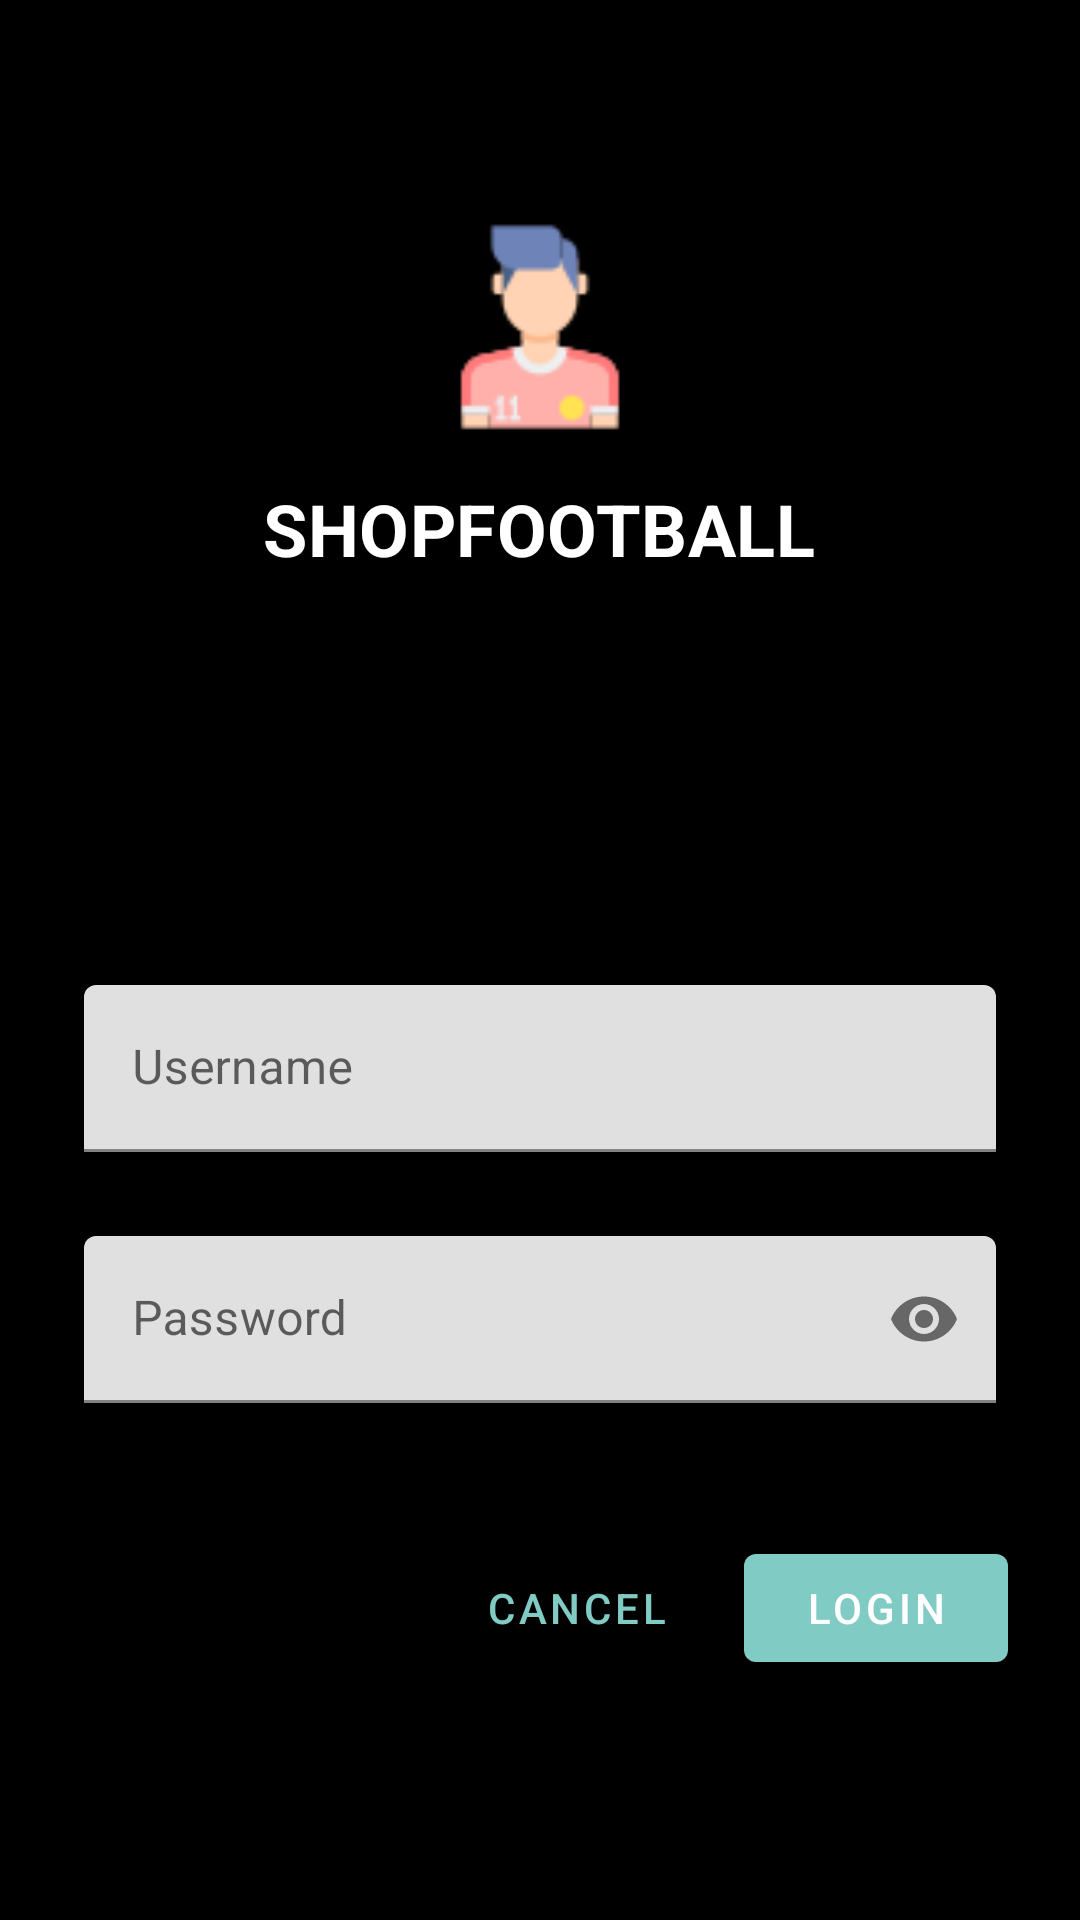

Point at icon controls on the screen. Image size 1080px x 1920px, points as [x,y].
jugador: [540,327]
